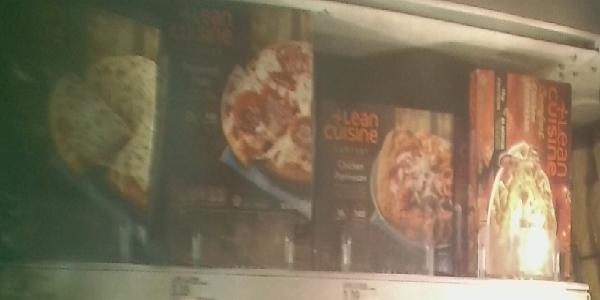pizza1: (160, 1, 318, 262), (1, 1, 154, 261), (320, 98, 459, 280), (469, 67, 577, 281)
